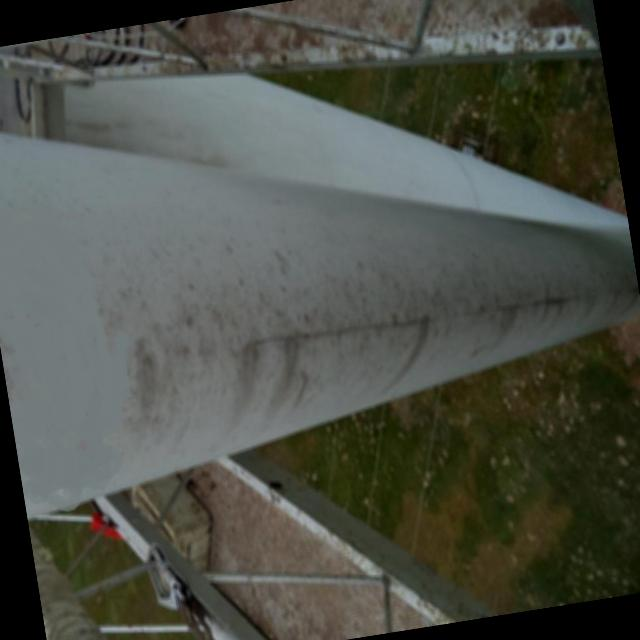crack: (247, 281, 576, 358)
